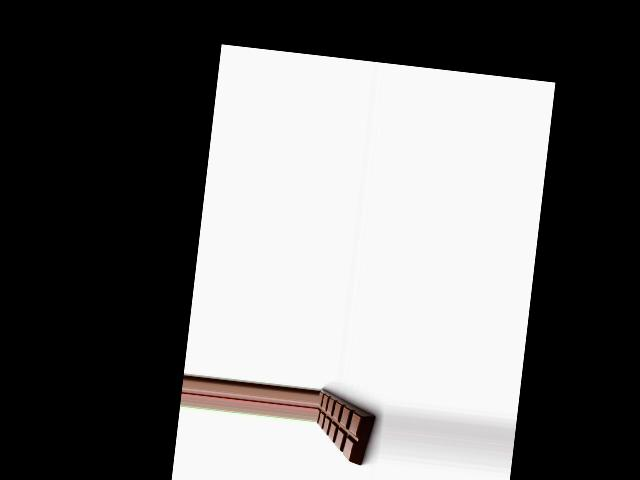chocolate: (312, 384, 380, 467)
